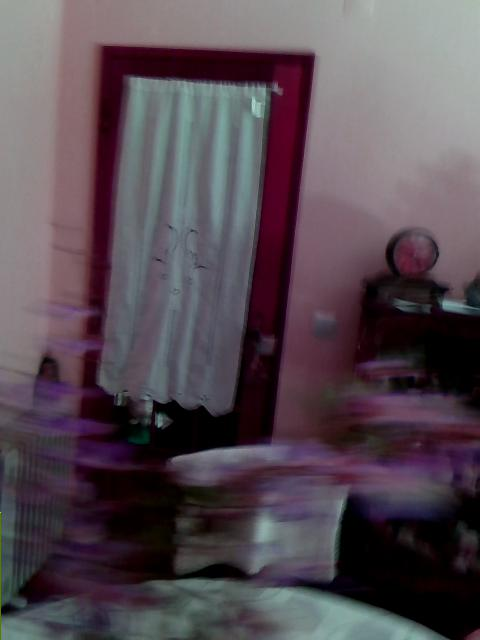closed_door: (78, 44, 314, 447)
